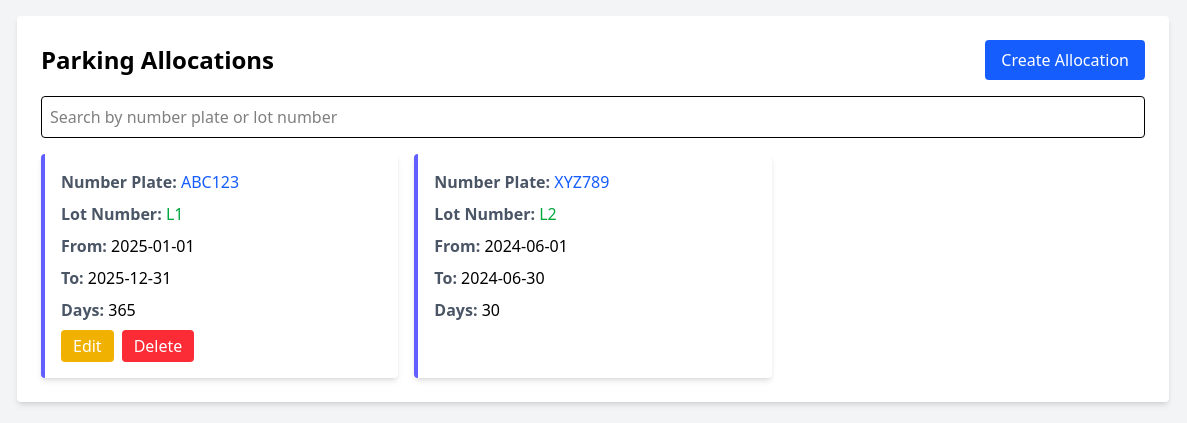
Test: Allocations Component › filters allocations based on search input
The width and height of the screenshot is (1187, 423).
Expected: the text "ABC123" is shown, [181,171,239,193]
Type "xyz" into the field with placeholder "Search by number plate or lot number" at x=593, y=117, box [41,96,1145,138]
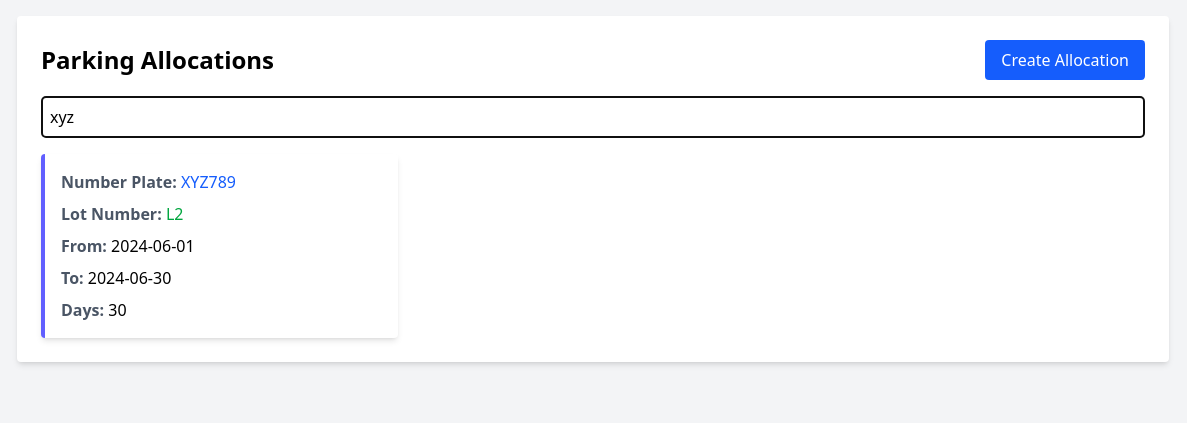
Expected: the text "XYZ789" is shown, [181,171,236,193]
Expected: the text "ABC123" is gone
